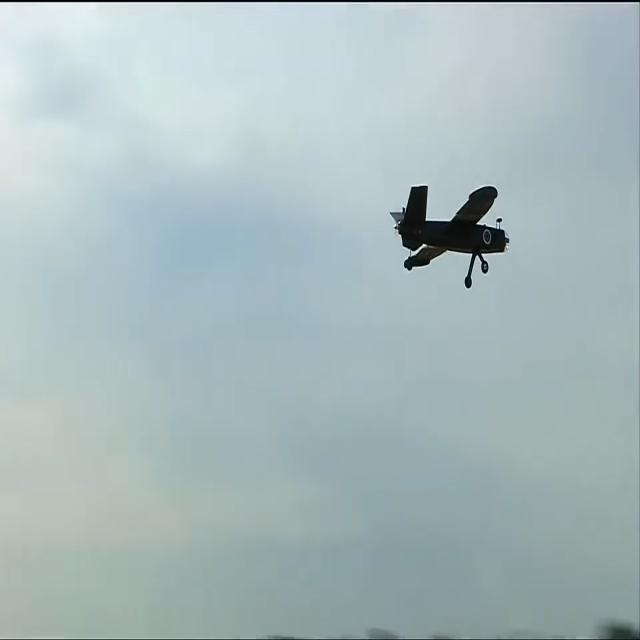iha: (422, 215, 478, 256)
